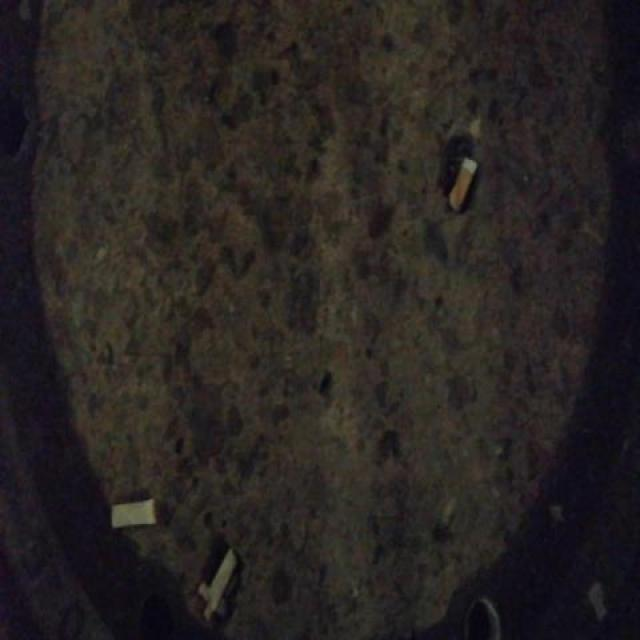non-organic waste: (203, 542, 241, 614), (443, 150, 481, 218), (108, 494, 160, 534)
